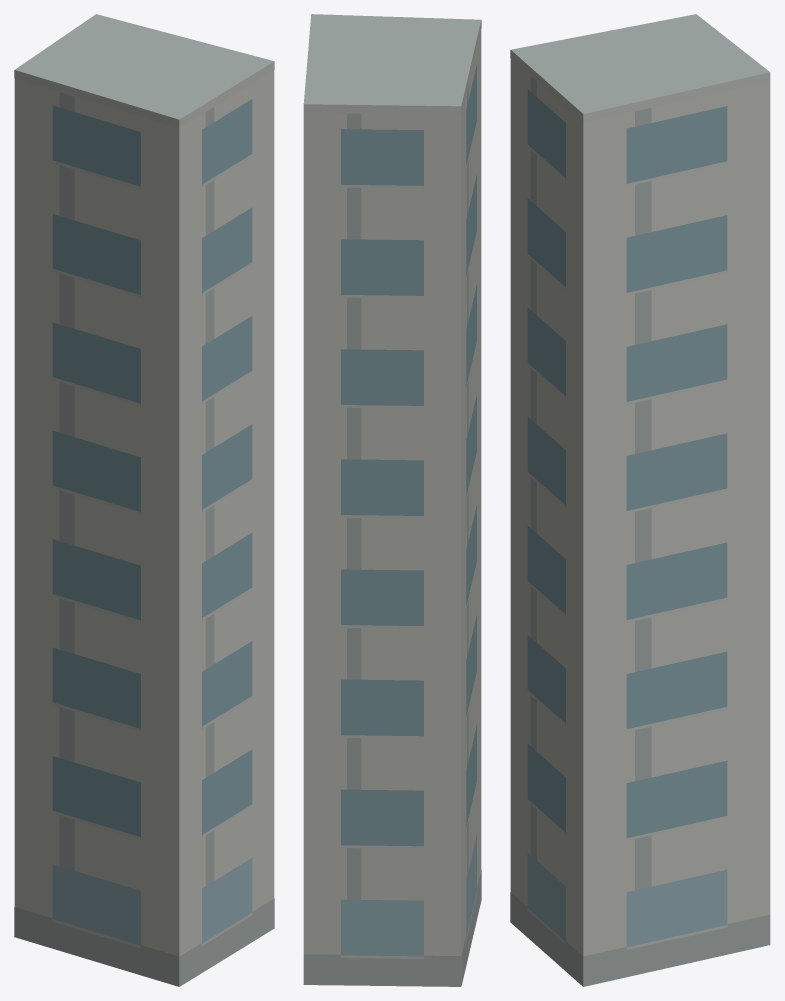
The model's file is survey-upis-32994800.glb.
3 renders of one model, left to right at view 1: azimuth 30°, elevation 25°; view 2: azimuth 150°, elevation 25°; view 3: azimuth 270°, elevation 25°, orthographic.
Parts seen in each view (by area): view 1: survey-upis-32994800.tmp; view 2: survey-upis-32994800.tmp; view 3: survey-upis-32994800.tmp.
Part boxes in pixels (<box>): survey-upis-32994800.tmp: <box>14,14,274,986</box>; survey-upis-32994800.tmp: <box>303,14,481,986</box>; survey-upis-32994800.tmp: <box>510,14,770,986</box>.
Bounding box in the file's own units: 6.01 × 24.4 × 6.59.
